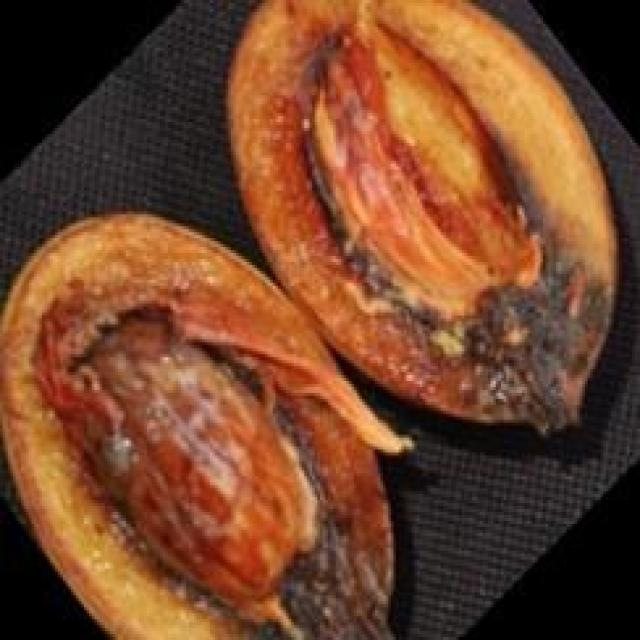damaged: (0, 211, 407, 634), (228, 0, 611, 432)
